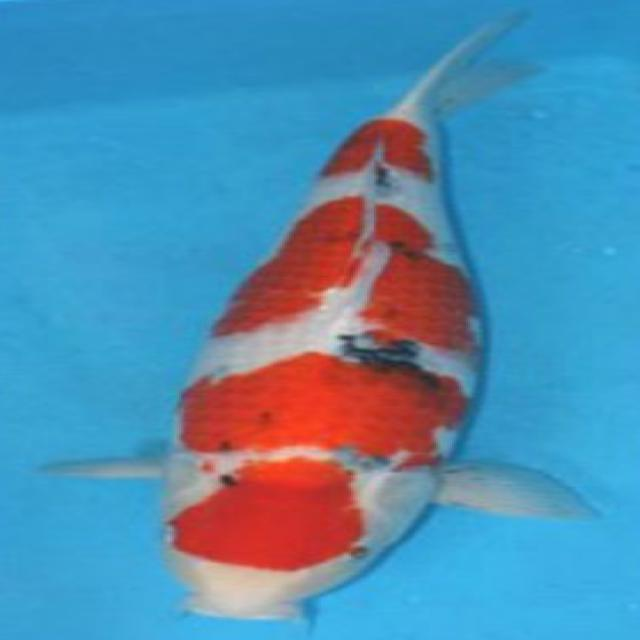Sanke: (39, 8, 599, 624)
